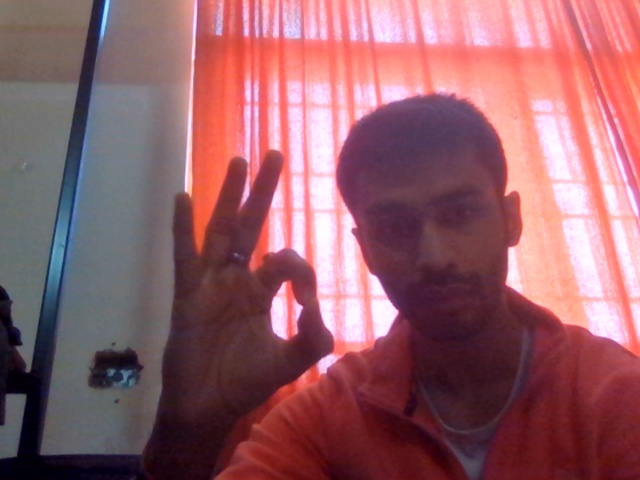F: (143, 118, 350, 480)
